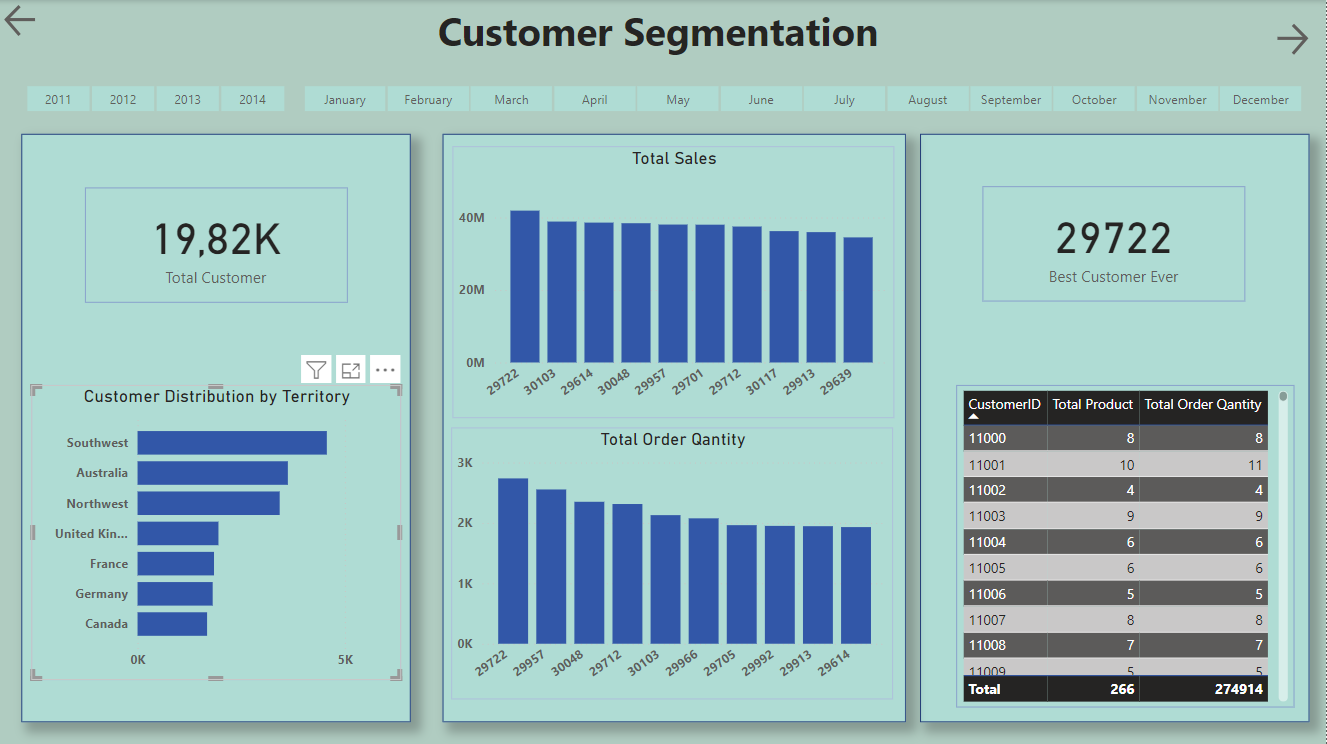

This screenshot's page, from the dashboard's own definition file:
{"tool":"powerbi","page":{"name":"Customer Segmentation","canvas":[1280,720],"ordinal":3},"visuals":[{"type":"shape","box":[887.8,129,376,568.1],"z":0},{"type":"shape","box":[426.8,129,447.3,568.1],"z":1000},{"type":"shape","box":[20.6,129,376,568.1],"z":2000},{"type":"actionButton","box":[1227,18.1,45.8,39.8],"z":3000},{"type":"actionButton","box":[0,0,42.2,39.8],"z":4000},{"type":"textbox","box":[417.4,0,444,73.6],"z":5000},{"type":"slicer","fields":{"Values":["Date.Year"]},"box":[0,76,298,36.2],"z":6000},{"type":"slicer","fields":{"Values":["Date.MonthNameLong"]},"box":[267.8,76,1012.2,36.2],"z":7000},{"type":"card","fields":{"Values":["Count(Customer.CustomerID)"]},"box":[82,181,253.4,111],"z":8000},{"type":"clusteredBarChart","title":"Customer Distribution by Territory","fields":{"Category":["Sales.TerritoryName"],"Y":["Count(Sales.CustomerID)"]},"box":[30.2,371.6,357.1,284.7],"z":9000},{"type":"clusteredColumnChart","title":"Total Sales","fields":{"Category":["Customer.CustomerID"],"Y":["Sum(Sales.TotalDue)"]},"box":[436.4,141.3,426.8,262.1],"z":10000},{"type":"clusteredColumnChart","title":"Total Order Qantity","fields":{"Category":["Customer.CustomerID"],"Y":["Sum(Sales.OrderQty)"]},"box":[435,413,426.8,262.1],"z":11000},{"type":"tableEx","fields":{"Values":["Sales.CustomerID","Sales.ProductName","Sum(Sales.OrderQty)"]},"box":[923.5,371.9,326.6,311.5],"z":12000},{"type":"card","fields":{"Values":["measureTable.Best Customer"]},"box":[948.2,179.8,253.9,111.1],"z":13000}]}

Visuals, with their boxes in screenshot pixels (x1, y1, x2, y2), scaled from the page's 1280x720 canvas onto the 1327x744 screenshot:
shape: pyautogui.locateOnScreen(920, 133, 1310, 720)
shape: pyautogui.locateOnScreen(442, 133, 906, 720)
shape: pyautogui.locateOnScreen(21, 133, 411, 720)
actionButton: pyautogui.locateOnScreen(1272, 19, 1320, 60)
actionButton: pyautogui.locateOnScreen(0, 0, 44, 41)
textbox: pyautogui.locateOnScreen(433, 0, 893, 76)
slicer - Date.Year: pyautogui.locateOnScreen(0, 79, 309, 116)
slicer - Date.MonthNameLong: pyautogui.locateOnScreen(278, 79, 1326, 116)
card - Count(Customer.CustomerID): pyautogui.locateOnScreen(85, 187, 348, 302)
"Customer Distribution by Territory" clusteredBarChart: pyautogui.locateOnScreen(31, 384, 402, 678)
"Total Sales" clusteredColumnChart: pyautogui.locateOnScreen(452, 146, 895, 417)
"Total Order Qantity" clusteredColumnChart: pyautogui.locateOnScreen(451, 427, 893, 698)
tableEx - Sales.CustomerID x Sales.ProductName: pyautogui.locateOnScreen(957, 384, 1296, 706)
card - measureTable.Best Customer: pyautogui.locateOnScreen(983, 186, 1246, 301)
